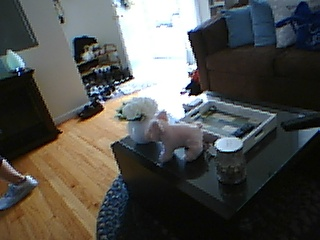piggy: (144, 109, 205, 164)
